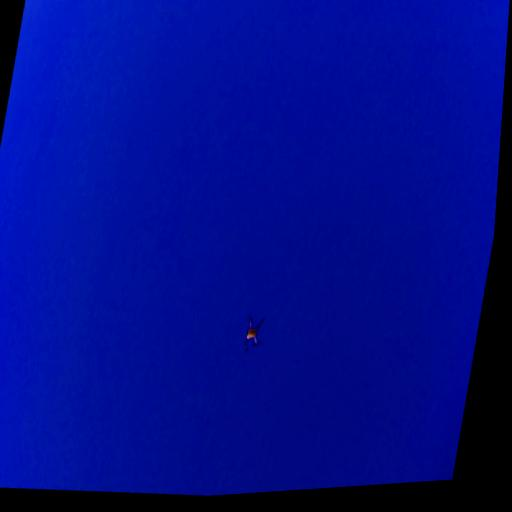drones: (237, 307, 270, 359)
